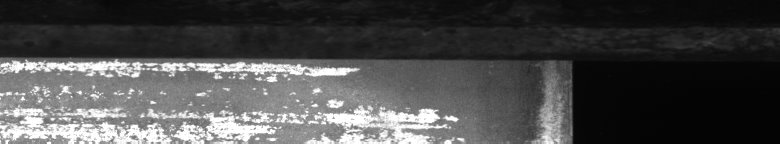kb: (4, 52, 556, 136)
